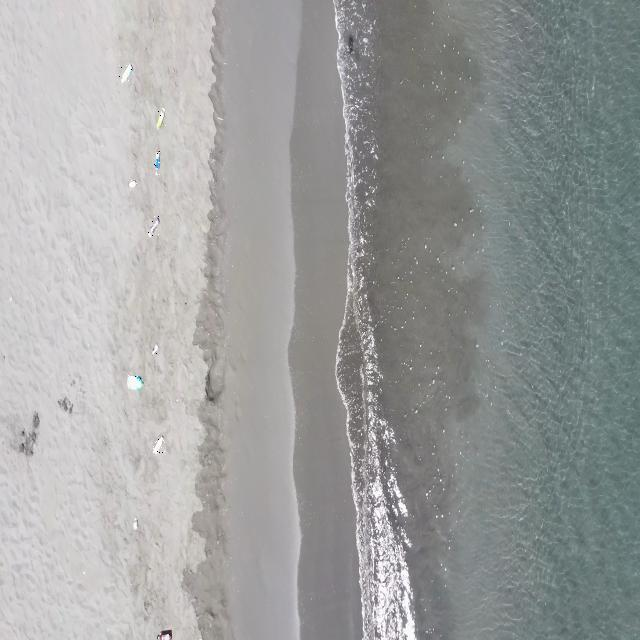Garbage: (147, 216, 159, 236), (127, 375, 143, 390), (57, 395, 71, 412), (120, 64, 131, 83), (152, 435, 163, 452), (152, 150, 160, 173), (156, 628, 171, 639), (156, 108, 163, 128), (151, 344, 158, 353), (131, 517, 136, 529), (128, 180, 136, 187)
